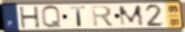2: (145, 4, 164, 27)
H: (18, 6, 42, 30)
M: (118, 4, 146, 28)
Q: (40, 5, 63, 30)
R: (91, 5, 116, 29)
T: (69, 6, 87, 28)
